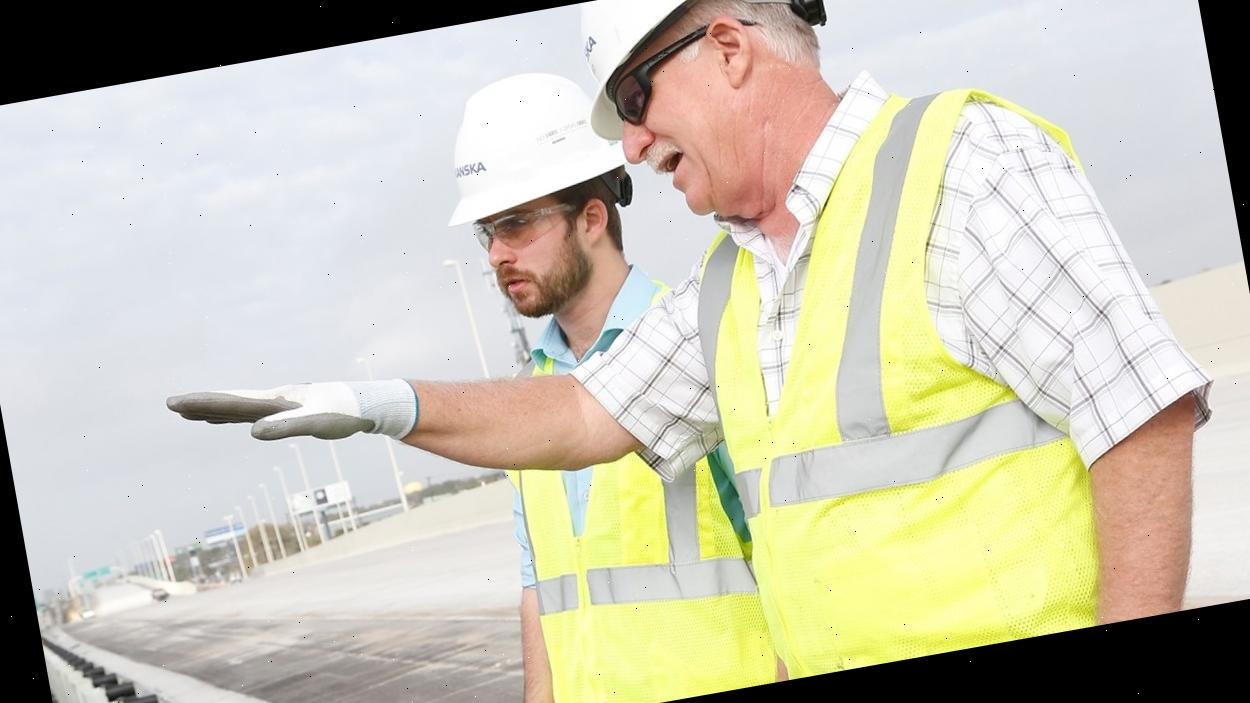helmet: (565, 0, 863, 143), (411, 53, 640, 235)
wear: (685, 137, 1200, 684), (467, 287, 761, 703)
